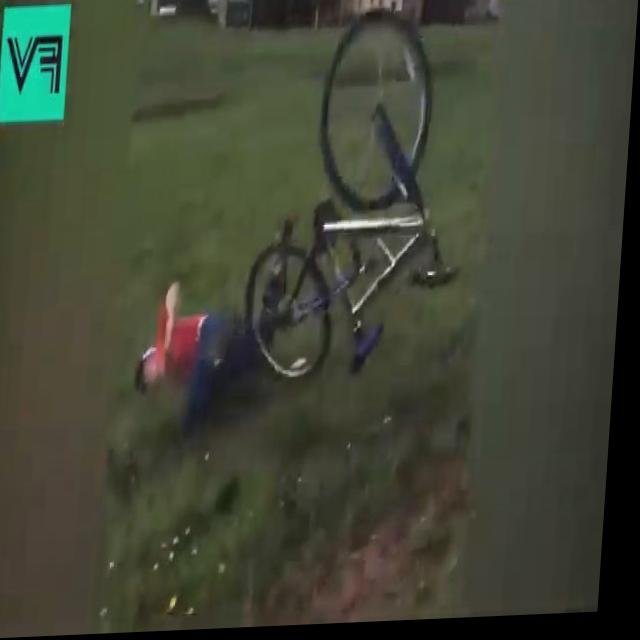fall: (136, 280, 264, 432)
